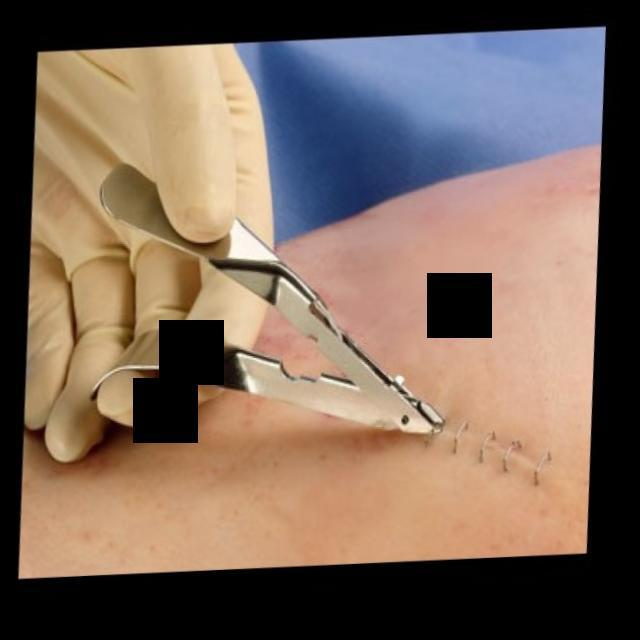Stapler Remover: (76, 145, 472, 452)
